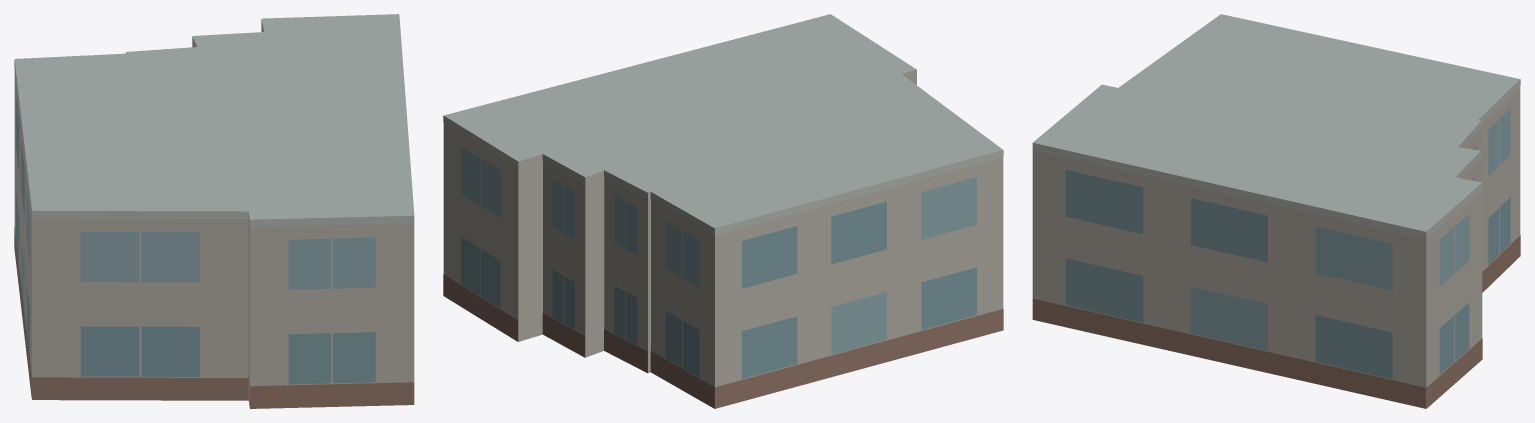
File: survey-upis-32884031.glb
3 renders of one model, left to right at view 1: azimuth 30°, elevation 25°; view 2: azimuth 150°, elevation 25°; view 3: azimuth 270°, elevation 25°, orthographic. The views are drawn at different scales.
Visible parts, largest first — view 1: survey-upis-32884031.tmp; view 2: survey-upis-32884031.tmp; view 3: survey-upis-32884031.tmp.
Boxes of the visible parts, <box> form: survey-upis-32884031.tmp: <box>14,14,414,408</box>; survey-upis-32884031.tmp: <box>443,14,1003,408</box>; survey-upis-32884031.tmp: <box>1032,14,1520,408</box>.
Size of the model in its own units: 16.11 by 6.1 by 15.24.
